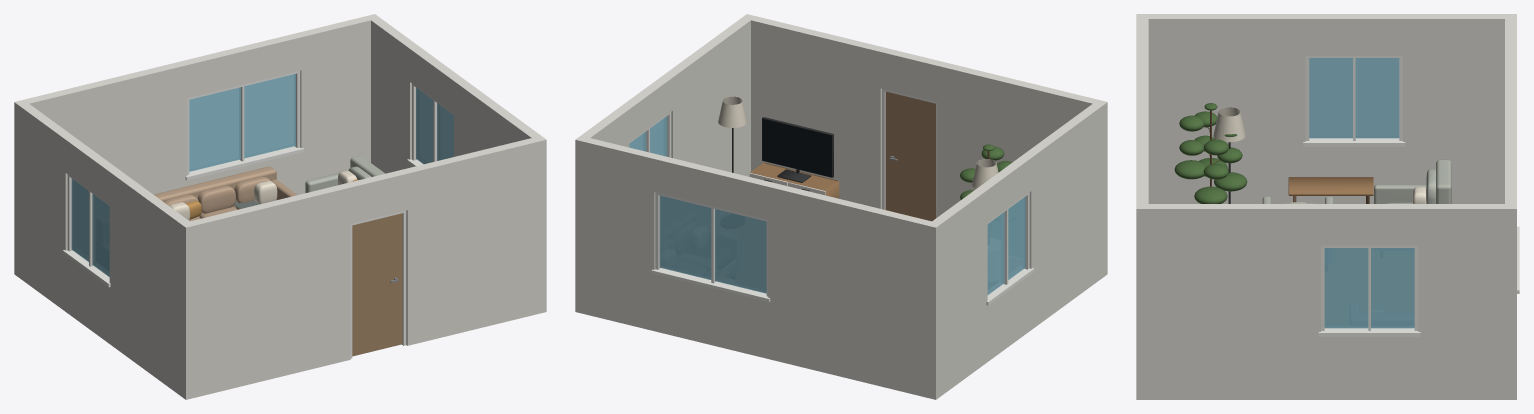
Rendered from oursv11b.glb.
The picture shows the model from 3 angles, left to right: view 1: azimuth 30°, elevation 25°; view 2: azimuth 150°, elevation 25°; view 3: azimuth 270°, elevation 25°; orthographic projection. The views are drawn at different scales.
Parts seen in each view (by area): view 1: wall|scenesmith_010__R00|0, wall|scenesmith_010__R00|1, wall|scenesmith_010__R00|2, wall|scenesmith_010__R00|3, wall|scenesmith_010__R00|1 Window 0 | glazing, wall|scenesmith_010__R00|0 Door 0 | wood leaf, Back upholstered shell, wall|scenesmith_010__R00|2 Window 0 | glazing, wall|scenesmith_010__R00|1 Window 0 | jamb, wall|scenesmith_010__R00|3 Window 0 | glazing, wall|scenesmith_010__R00|2 Window 0 | jamb, wall|scenesmith_010__R00|0 Door 0 | jamb (+3 smaller); view 2: wall|scenesmith_010__R00|1, wall|scenesmith_010__R00|0, wall|scenesmith_010__R00|2, wall|scenesmith_010__R00|3, wall|scenesmith_010__R00|1 Window 0 | glazing, wall|scenesmith_010__R00|0 Door 0 | wood leaf, Display image, wall|scenesmith_010__R00|2 Window 0 | glazing, wall|scenesmith_010__R00|1 Window 0 | jamb, wall|scenesmith_010__R00|2 Window 0 | jamb, Lampshade, Bay divider (+4 smaller); view 3: wall|scenesmith_010__R00|3, wall|scenesmith_010__R00|2, wall|scenesmith_010__R00|2 Window 0 | glazing, wall|scenesmith_010__R00|3 Window 0 | glazing, wall|scenesmith_010__R00|0, wall|scenesmith_010__R00|1, Leaf canopy, wall|scenesmith_010__R00|3 Window 0 | jamb, wall|scenesmith_010__R00|2 Window 0 | jamb, Back upholstered shell.001, Bay divider, Lampshade.
Boxes of the visible parts, x1,y1,x2,y2 form: wall|scenesmith_010__R00|0: [180, 136, 546, 399]; wall|scenesmith_010__R00|1: [14, 14, 379, 277]; wall|scenesmith_010__R00|2: [18, 100, 195, 399]; wall|scenesmith_010__R00|3: [368, 14, 546, 313]; wall|scenesmith_010__R00|1 Window 0 | glazing: [189, 74, 295, 171]; wall|scenesmith_010__R00|0 Door 0 | wood leaf: [352, 213, 402, 356]; Back upholstered shell: [154, 166, 297, 221]; wall|scenesmith_010__R00|2 Window 0 | glazing: [71, 178, 109, 276]; wall|scenesmith_010__R00|1 Window 0 | jamb: [185, 71, 304, 180]; wall|scenesmith_010__R00|3 Window 0 | glazing: [416, 88, 453, 164]; wall|scenesmith_010__R00|2 Window 0 | jamb: [62, 174, 110, 287]; wall|scenesmith_010__R00|0 Door 0 | jamb: [350, 210, 406, 358]; wall|scenesmith_010__R00|1: [584, 138, 941, 399]; wall|scenesmith_010__R00|0: [742, 14, 1107, 277]; wall|scenesmith_010__R00|2: [926, 104, 1102, 399]; wall|scenesmith_010__R00|3: [575, 18, 750, 313]; wall|scenesmith_010__R00|1 Window 0 | glazing: [659, 195, 766, 293]; wall|scenesmith_010__R00|0 Door 0 | wood leaf: [885, 91, 935, 221]; Display image: [762, 118, 831, 177]; wall|scenesmith_010__R00|2 Window 0 | glazing: [987, 196, 1025, 294]; wall|scenesmith_010__R00|1 Window 0 | jamb: [651, 192, 770, 301]; wall|scenesmith_010__R00|2 Window 0 | jamb: [986, 192, 1034, 305]; Lampshade: [718, 96, 998, 188]; Bay divider: [750, 162, 839, 198]; wall|scenesmith_010__R00|3: [1148, 204, 1516, 399]; wall|scenesmith_010__R00|2: [1148, 14, 1516, 203]; wall|scenesmith_010__R00|2 Window 0 | glazing: [1309, 58, 1399, 138]; wall|scenesmith_010__R00|3 Window 0 | glazing: [1324, 248, 1414, 328]; wall|scenesmith_010__R00|0: [1136, 14, 1148, 399]; wall|scenesmith_010__R00|1: [1505, 14, 1516, 399]; Leaf canopy: [1174, 103, 1247, 203]; wall|scenesmith_010__R00|3 Window 0 | jamb: [1318, 245, 1420, 336]; wall|scenesmith_010__R00|2 Window 0 | jamb: [1303, 56, 1405, 146]; Back upholstered shell.001: [1262, 159, 1451, 203]; Bay divider: [1288, 177, 1373, 195]; Lampshade: [1213, 107, 1245, 142].
Size of the model in its own units: 5.76 by 2.61 by 4.73.
